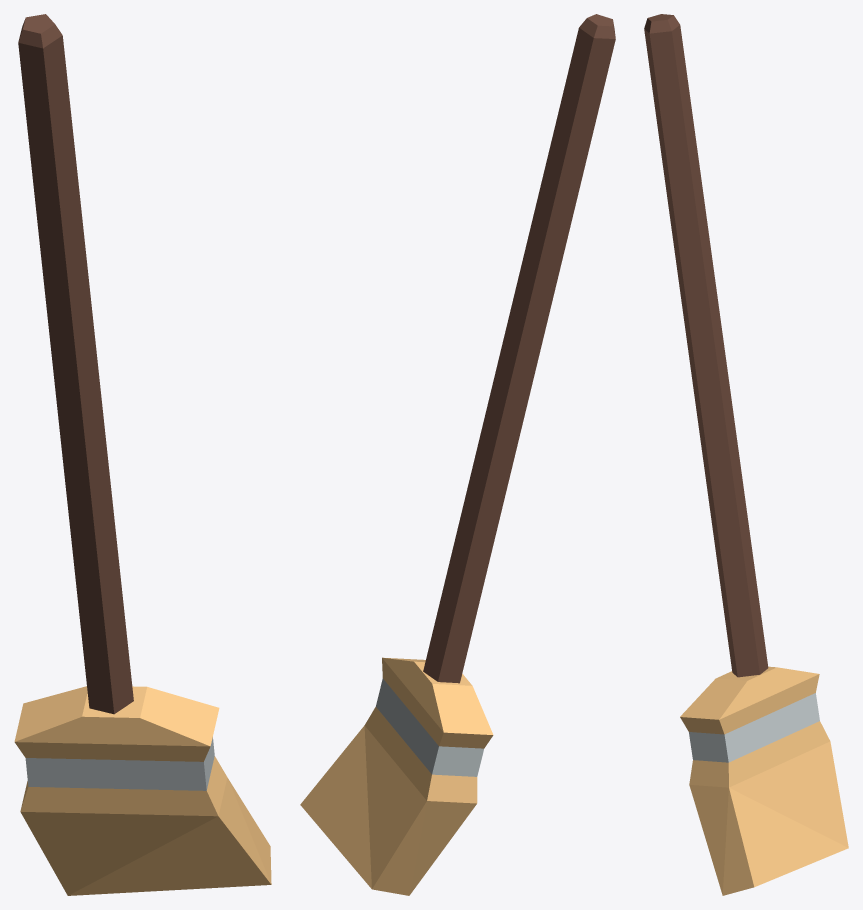
Rendered from Broom.glb.
3 views of the same model, side by side, from view 1: azimuth 30°, elevation 25°; view 2: azimuth 150°, elevation 25°; view 3: azimuth 270°, elevation 25° (orthographic). The views are drawn at different scales.
Visible parts, largest first — view 1: broom; view 2: broom; view 3: broom.
Part boxes in pixels (<box>): broom: <box>14,14,271,895</box>; broom: <box>300,14,615,895</box>; broom: <box>644,14,848,895</box>.
Bounding box in the file's own units: 0.5819 × 1.76 × 0.414.
